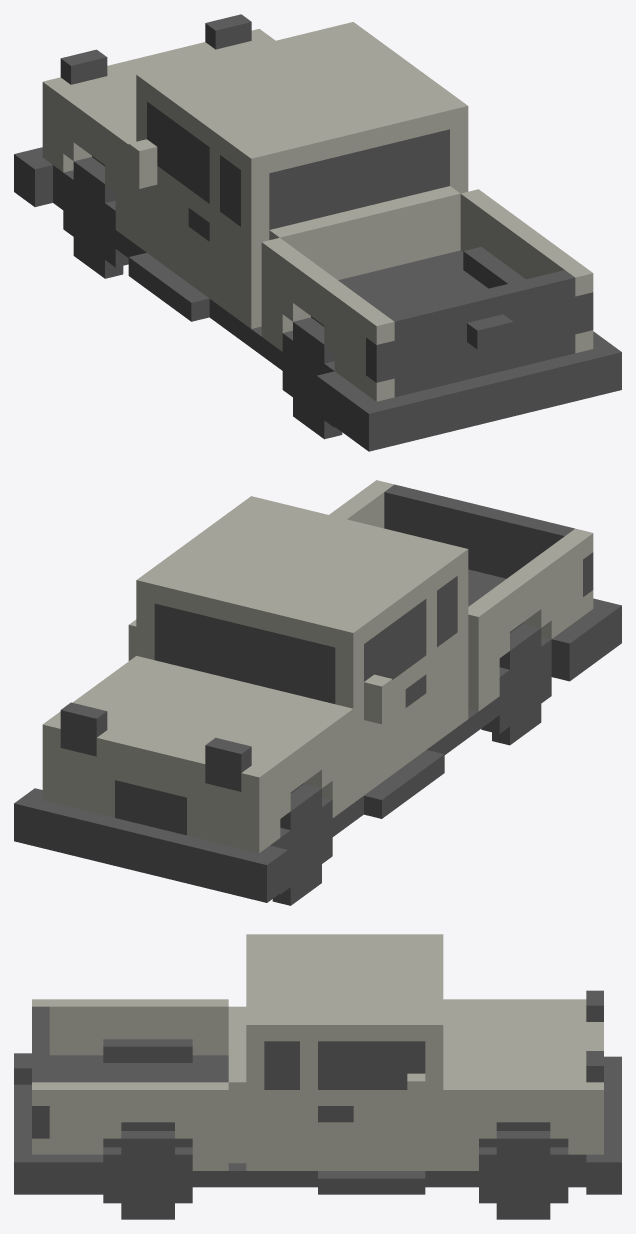
The model's file is veh_truck4.obj.
3 renders of one model, top to bottom at view 1: azimuth 30°, elevation 25°; view 2: azimuth 150°, elevation 25°; view 3: azimuth 270°, elevation 25°, orthographic. The views are drawn at different scales.
Size of the model in its own units: 14 by 12 by 34.
